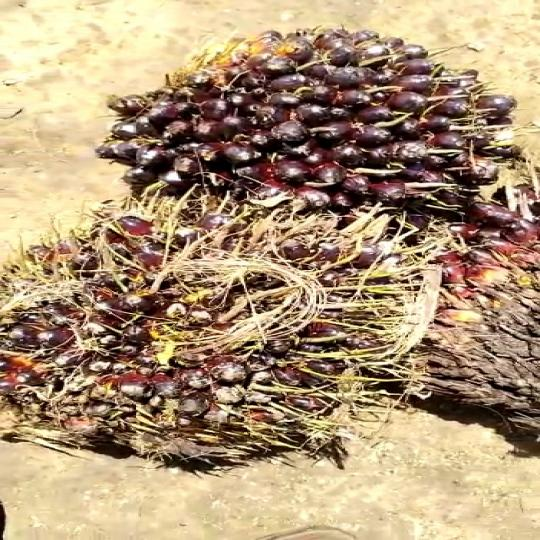mentah: (0, 186, 439, 450), (87, 11, 540, 243)
